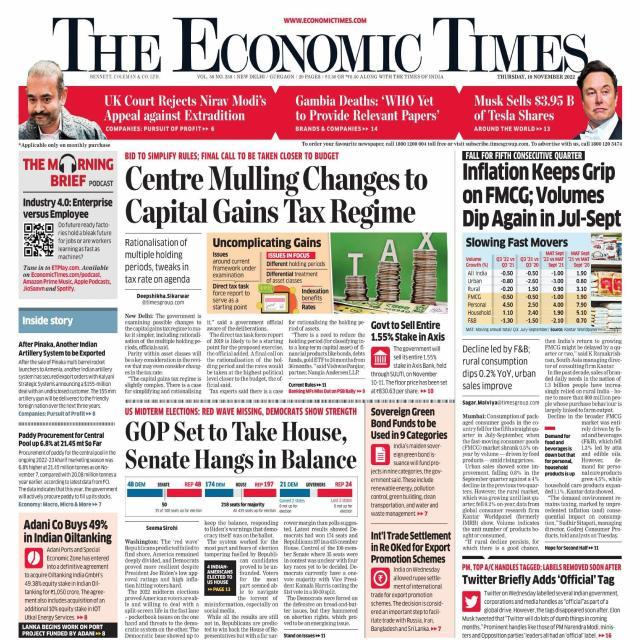Article: (122, 149, 450, 397), (460, 150, 624, 554), (122, 404, 359, 640), (17, 150, 118, 300), (459, 561, 623, 640), (20, 513, 119, 623), (365, 526, 454, 637), (367, 404, 452, 520), (15, 337, 120, 420), (15, 428, 120, 510)
Body: (462, 413, 540, 552), (284, 520, 359, 628), (462, 590, 620, 640), (124, 537, 199, 640), (24, 546, 110, 620), (544, 338, 622, 419), (125, 312, 202, 394), (206, 318, 284, 395), (370, 443, 442, 518), (17, 358, 117, 409), (18, 450, 117, 500), (370, 566, 442, 632), (544, 482, 623, 539), (289, 319, 366, 376), (371, 344, 447, 394), (204, 602, 279, 640), (203, 520, 280, 557), (582, 420, 622, 482), (57, 222, 111, 260), (239, 558, 279, 600)
Date: (496, 74, 576, 80)
Heading: (125, 165, 428, 230), (124, 420, 357, 474), (462, 161, 621, 230), (370, 530, 451, 564), (370, 408, 448, 440), (23, 517, 112, 545), (22, 197, 113, 220), (462, 574, 616, 586), (370, 319, 446, 342), (19, 341, 106, 358), (18, 432, 106, 446)
Highlights: (105, 94, 268, 124), (294, 93, 440, 124), (462, 344, 536, 391), (125, 238, 191, 284), (474, 94, 574, 122), (23, 264, 111, 292), (544, 433, 576, 477), (212, 250, 256, 278), (204, 560, 236, 596), (212, 284, 252, 310), (266, 272, 318, 284), (302, 288, 329, 310), (266, 260, 326, 268)
Image: (462, 233, 622, 335), (334, 233, 446, 314), (126, 478, 358, 516), (18, 74, 103, 140), (576, 74, 622, 140), (256, 282, 298, 314)
Name: (49, 17, 587, 72)
